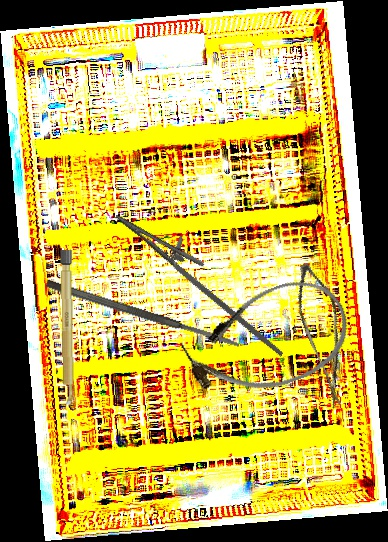Cannula: (171, 267, 363, 414)
Micro Scissor: (274, 259, 375, 410)
Needle Holder: (99, 199, 308, 358)
Scalpel Handle: (59, 249, 75, 407)
Spatula Surgical: (45, 278, 241, 351)
